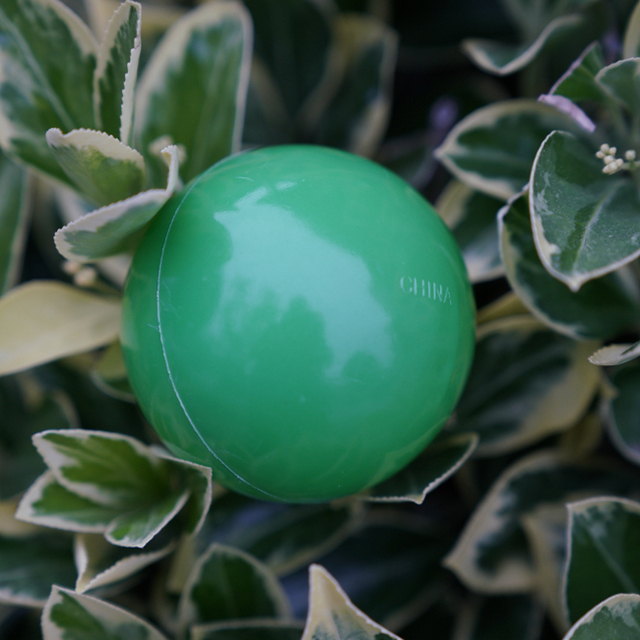Ball: (122, 145, 472, 505)
